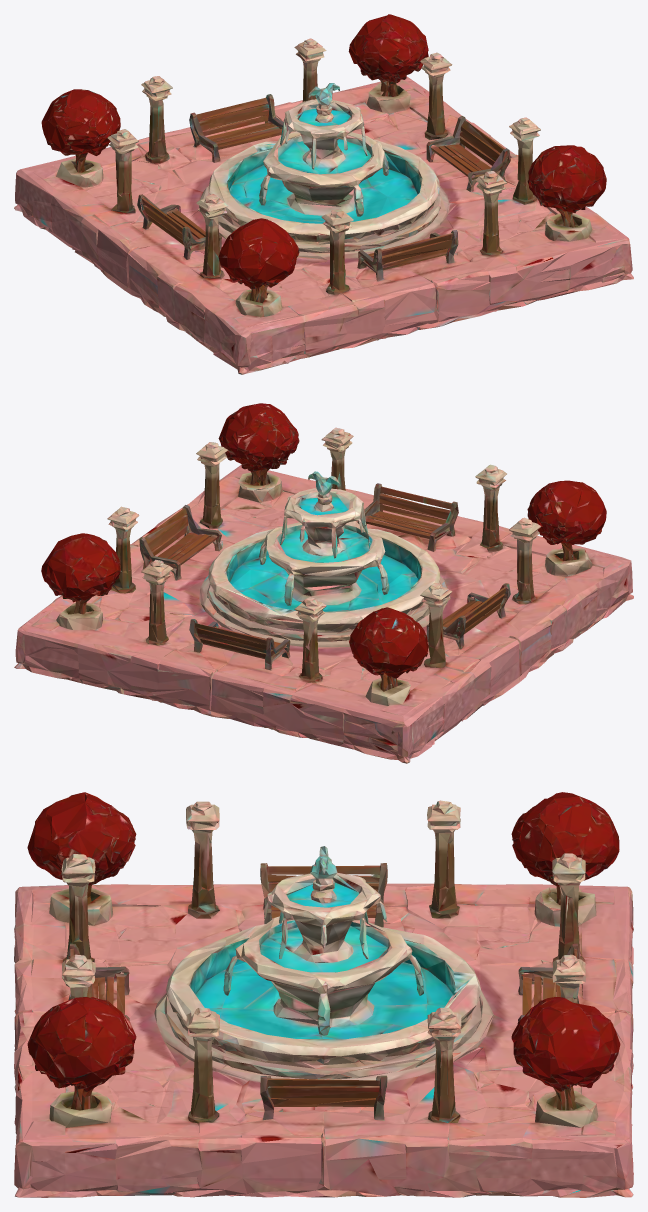
File: town_fountain_1x1.glb
3 renders of one model, top to bottom at view 1: azimuth 30°, elevation 25°; view 2: azimuth 150°, elevation 25°; view 3: azimuth 270°, elevation 25°, orthographic. The views are drawn at different scales.
Parts seen in each view (by area): view 1: normalize; view 2: normalize; view 3: normalize.
Part boxes in pixels (left/top/right/bottom): normalize: left=14, top=14, right=633, bottom=374; normalize: left=14, top=403, right=633, bottom=763; normalize: left=14, top=792, right=633, bottom=1197.
Bounding box in the file's own units: 0.9996 × 0.3844 × 1.
Materials: 1 (1 with a texture image).
